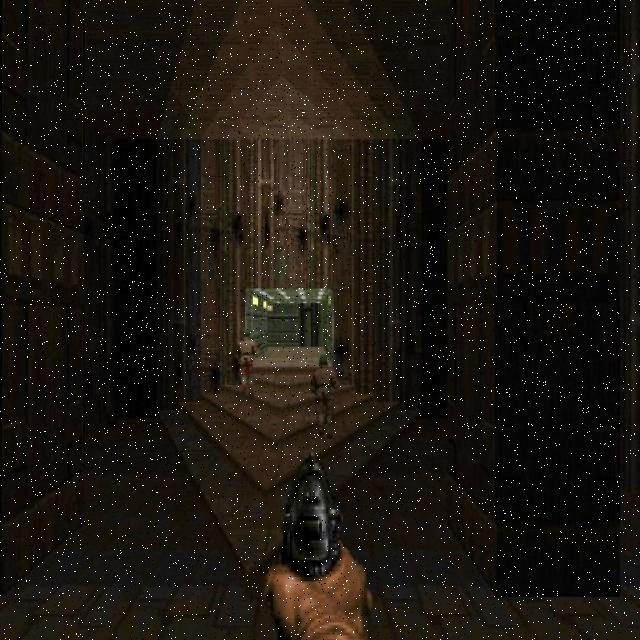Guns: (287, 459, 339, 585)
